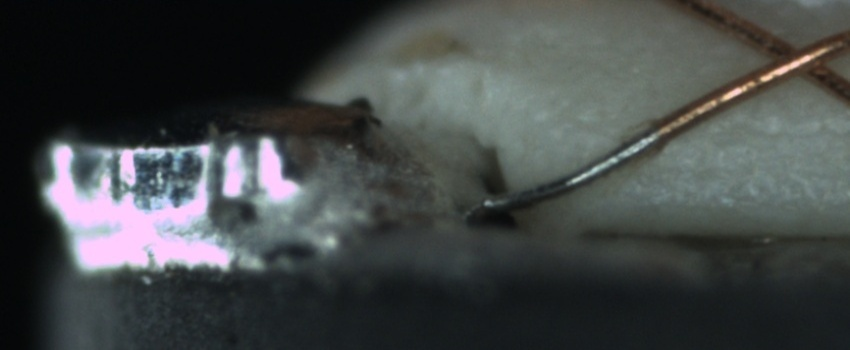CL: (744, 22, 848, 92)
DL: (696, 106, 849, 163)
TS: (484, 129, 660, 212)
